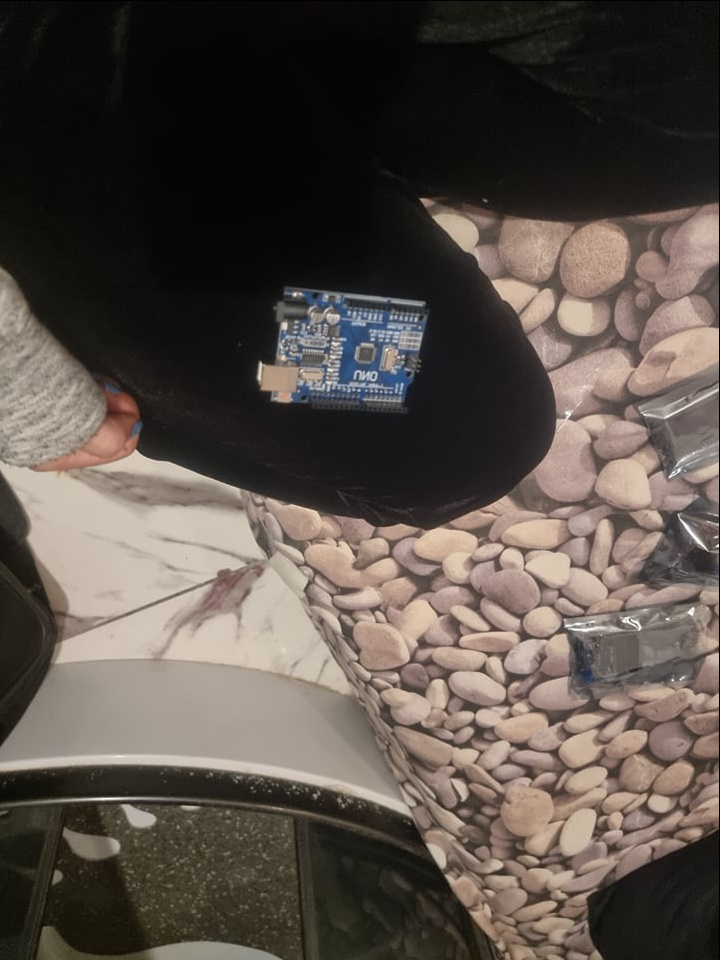UNO R3: (257, 282, 433, 416)
